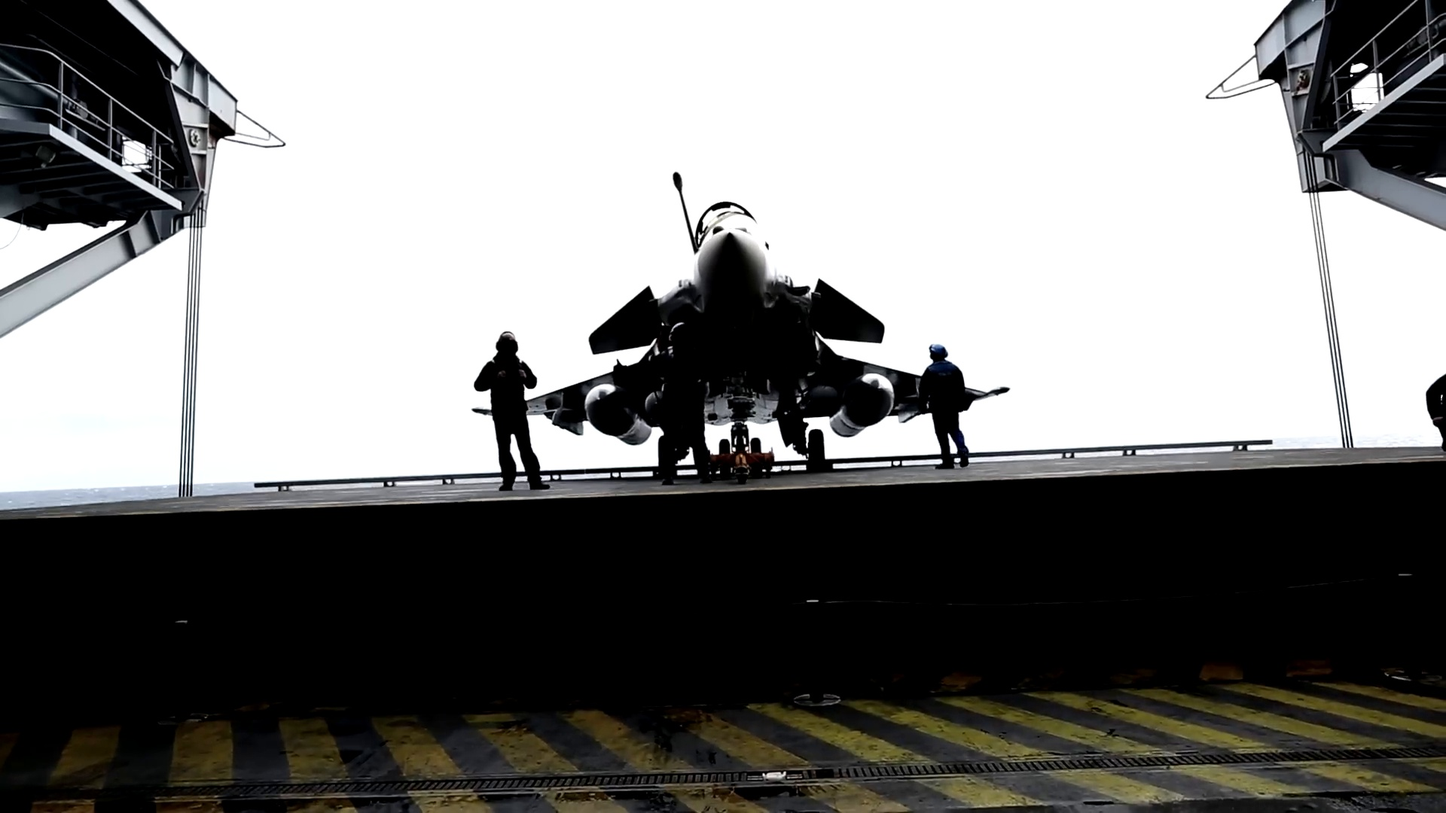Rafale: (472, 171, 1011, 479)
